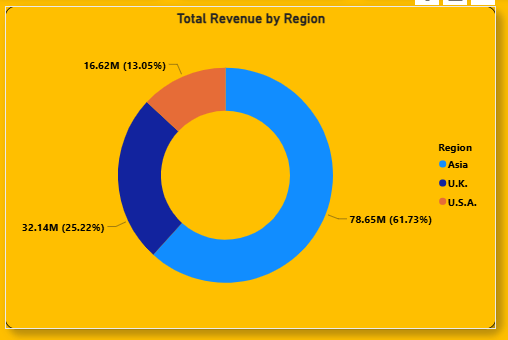

Layout of this report page (visuals, bound fields, positions):
{"tool":"powerbi","page":{"name":"Page 2","canvas":[1280,720],"ordinal":1},"visuals":[{"type":"donutChart","fields":{"Y":["Measures (2).Total Revenue"],"Category":["Sheet1.Region"]},"box":[210.2,87.8,691.2,439.2],"z":0}]}

Visuals, with their boxes on the page's 1280x720 design canvas (x1, y1, x2, y2). These are canvas units, not pixel positions in the 508x340 screenshot, which may show the page scaled, cropped or inside an application window:
donutChart - Measures (2).Total Revenue x Sheet1.Region: pyautogui.locateOnScreen(210, 88, 901, 527)
